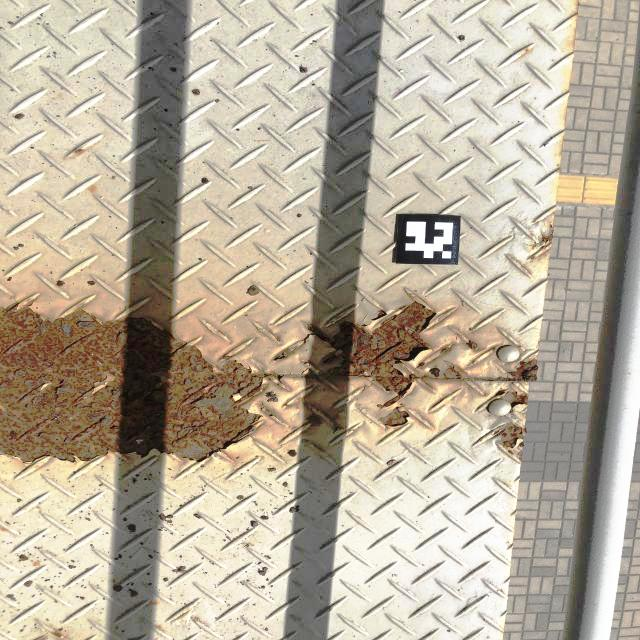Corrosion: (0, 292, 265, 463), (302, 302, 539, 408), (257, 360, 363, 393), (527, 210, 555, 260), (272, 334, 314, 363), (492, 422, 527, 450), (415, 344, 454, 369), (496, 387, 528, 409), (380, 407, 409, 427), (258, 401, 284, 423), (323, 409, 346, 433), (283, 397, 309, 409), (461, 340, 485, 353), (411, 415, 433, 429), (409, 293, 431, 306), (508, 447, 523, 463), (266, 330, 282, 344), (52, 631, 68, 640), (521, 265, 534, 275), (374, 310, 386, 320), (176, 610, 188, 620), (71, 148, 85, 156), (454, 331, 464, 342), (220, 354, 232, 362), (575, 0, 580, 15), (218, 329, 226, 337), (489, 347, 499, 353), (35, 635, 46, 640), (521, 49, 529, 55), (154, 625, 161, 630), (90, 186, 95, 193), (194, 617, 201, 621), (152, 601, 158, 605), (516, 345, 522, 348), (34, 562, 40, 565), (111, 579, 115, 583), (1, 528, 5, 532)
